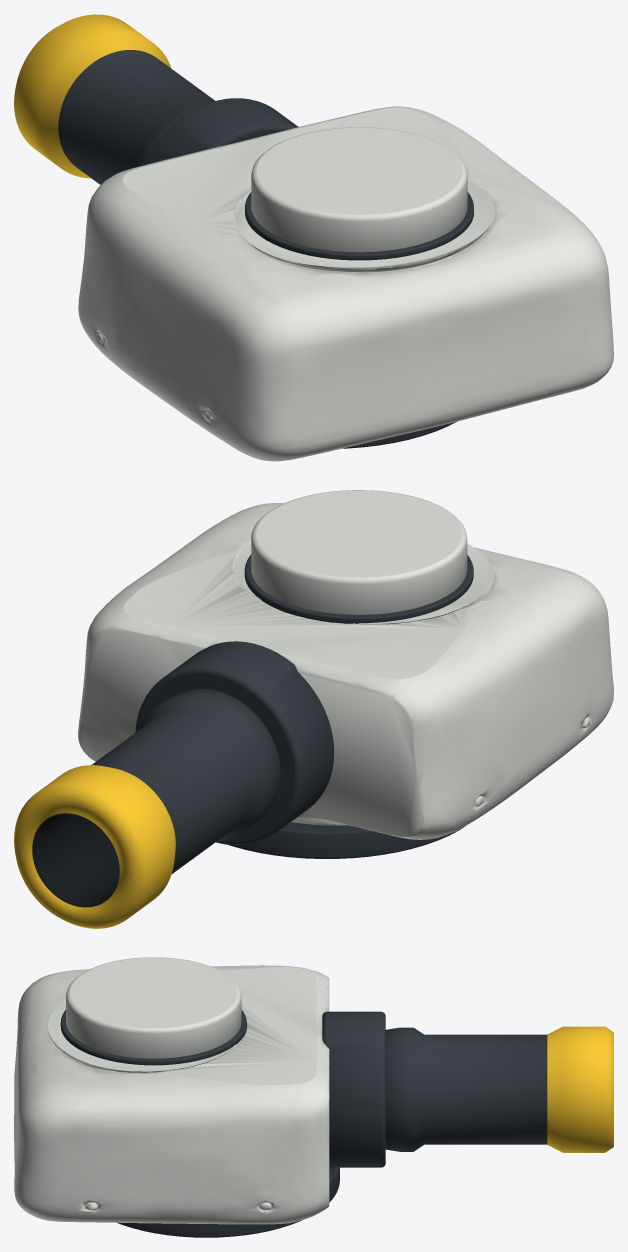
File: cannon.glb
3 views of the same model, one above another, from view 1: azimuth 30°, elevation 25°; view 2: azimuth 150°, elevation 25°; view 3: azimuth 270°, elevation 25° (orthographic). The views are drawn at different scales.
Visible parts, largest first — view 1: Armor shell, Flush roof hatch, Barrel, Fixed receiver, Hatch seam; view 2: Armor shell, Barrel, Flush roof hatch, Fixed receiver, Low swivel ring, Hatch seam; view 3: Armor shell, Barrel, Flush roof hatch, Fixed receiver, Low swivel ring, Hatch seam.
Boxes of the visible parts, <box> form: Armor shell: <box>78,106,613,461</box>; Flush roof hatch: <box>251,127,467,252</box>; Barrel: <box>14,14,215,184</box>; Fixed receiver: <box>145,98,298,164</box>; Hatch seam: <box>245,192,473,260</box>; Armor shell: <box>78,502,613,839</box>; Barrel: <box>14,689,280,928</box>; Flush roof hatch: <box>251,490,467,614</box>; Fixed receiver: <box>135,641,334,845</box>; Low swivel ring: <box>228,822,464,858</box>; Hatch seam: <box>244,554,473,623</box>; Armor shell: <box>14,965,329,1224</box>; Barrel: <box>385,1026,613,1152</box>; Flush roof hatch: <box>66,957,241,1058</box>; Fixed receiver: <box>322,1011,385,1167</box>; Low swivel ring: <box>117,1167,339,1237</box>; Hatch seam: <box>60,1010,246,1065</box>.
Bounding box in the file's own units: 1.04 × 0.594 × 1.71.
